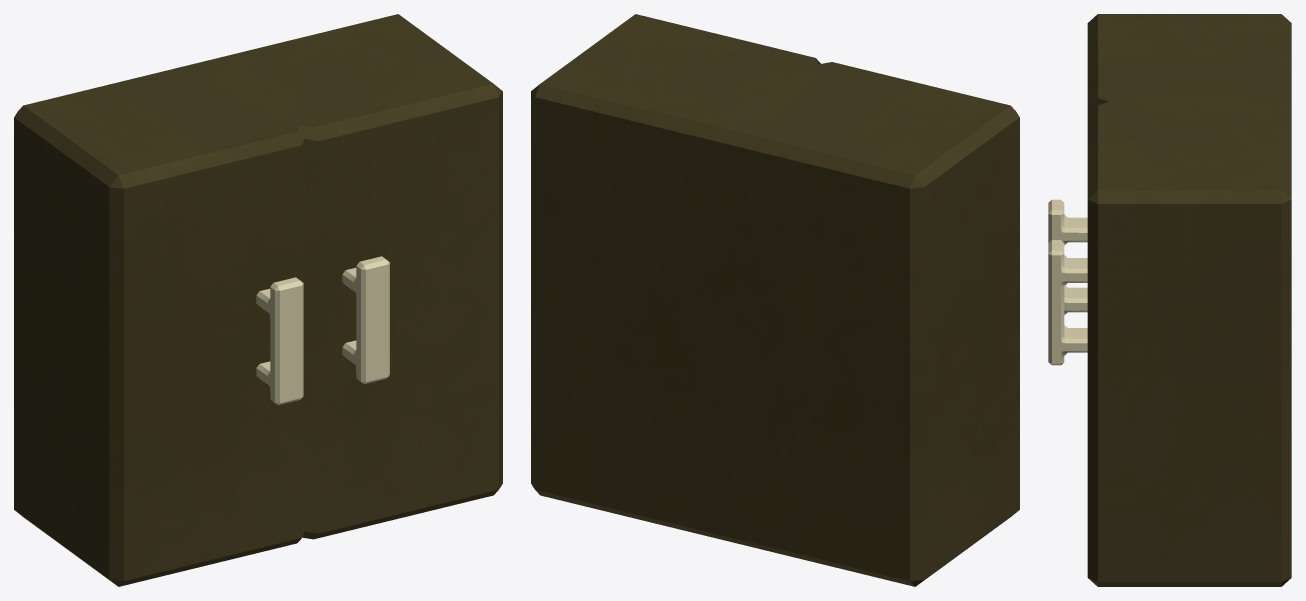
The model's file is medicine cabinet 2.fbx.
The picture shows the model from 3 angles, left to right: view 1: azimuth 30°, elevation 25°; view 2: azimuth 150°, elevation 25°; view 3: azimuth 270°, elevation 25°; orthographic projection. The views are drawn at different scales.
Visible parts, largest first — view 1: polySurface566; view 2: polySurface566; view 3: polySurface566.
Part boxes in pixels (x1=…): polySurface566: x1=14, y1=14, x2=502, y2=586; polySurface566: x1=531, y1=14, x2=1019, y2=586; polySurface566: x1=1048, y1=14, x2=1291, y2=586.
Size of the model in its own units: 0.5757 by 0.5757 by 0.3203.
Materials: 1 (1 with a texture image).
